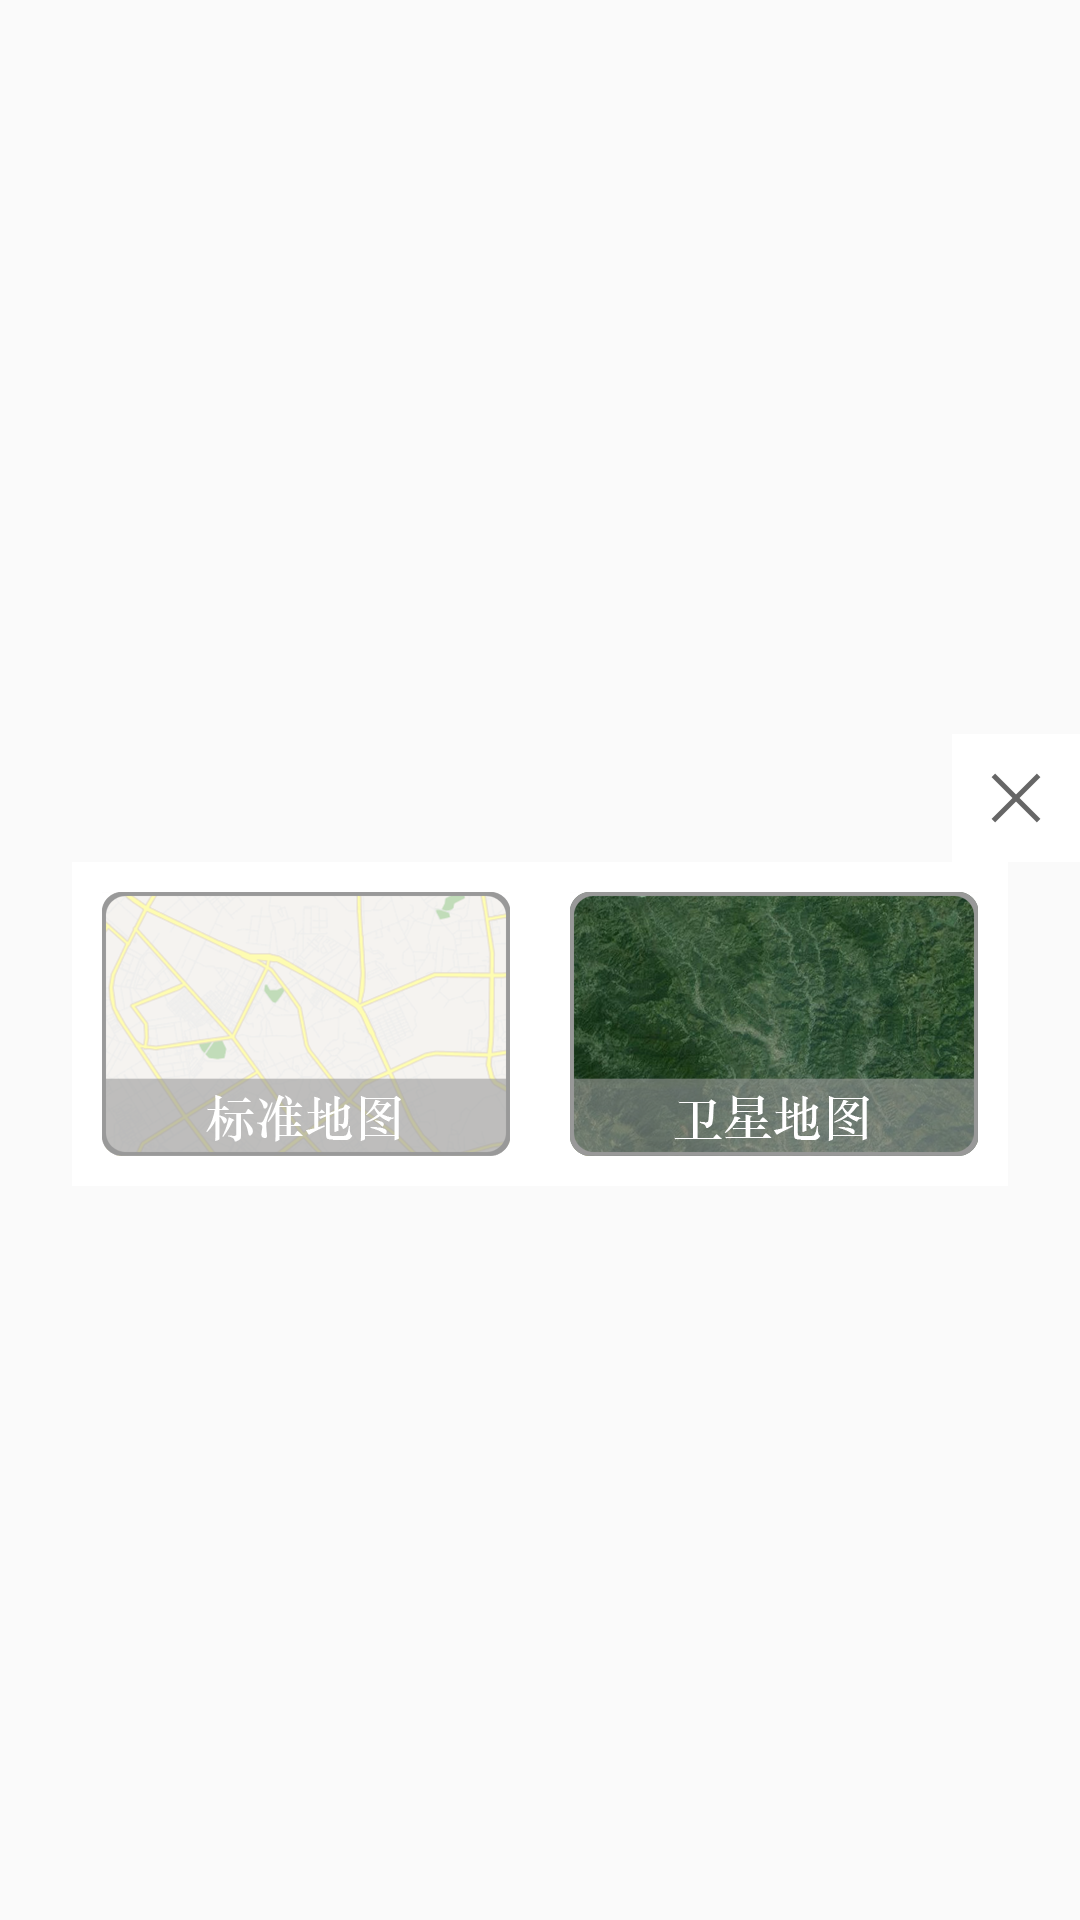

Icon bounding boxes for this 1080 x 1920 phone screenshot, format bbox(x1, y1, x2, y2):
map type close: bbox(992, 774, 1040, 822)
